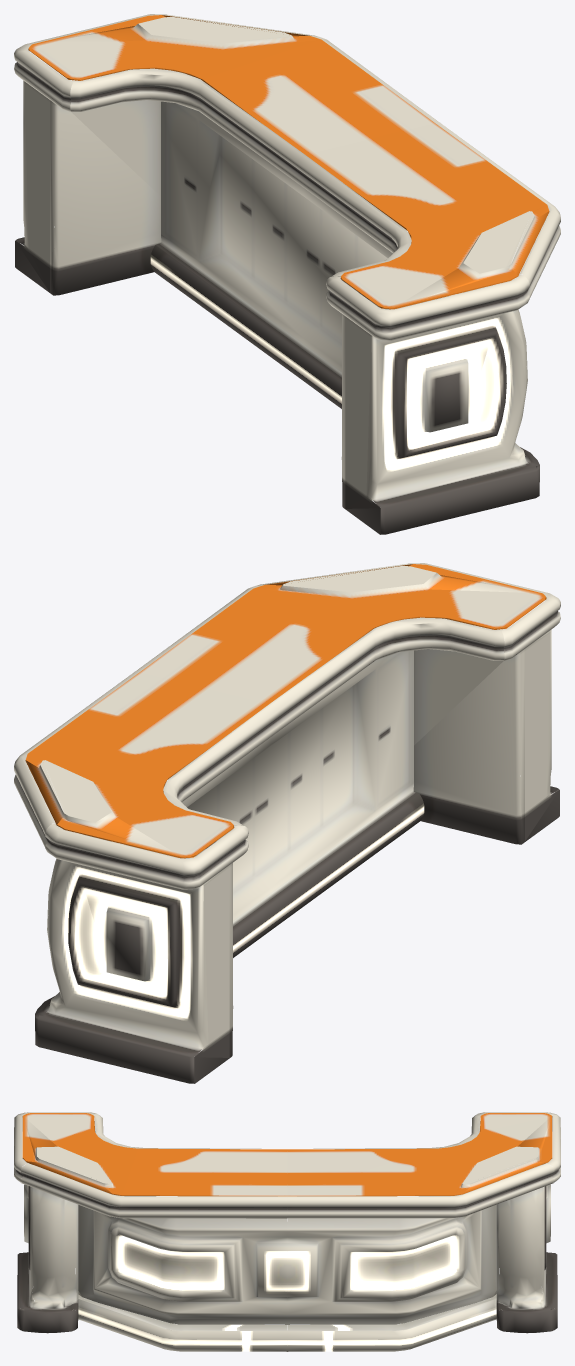
The model's file is bar_counter_5_c.glb.
The picture shows the model from 3 angles, top to bottom: view 1: azimuth 30°, elevation 25°; view 2: azimuth 150°, elevation 25°; view 3: azimuth 270°, elevation 25°; orthographic projection. The views are drawn at different scales.
Parts seen in each view (by area): view 1: bar_counter_5; view 2: bar_counter_5; view 3: bar_counter_5.
Part boxes in pixels (<box>): bar_counter_5: <box>14,14,560,534</box>; bar_counter_5: <box>14,563,560,1083</box>; bar_counter_5: <box>14,1112,560,1351</box>.
Bounding box in the file's own units: 1.29 × 1.12 × 3.35.
1 material, 1 textured.
